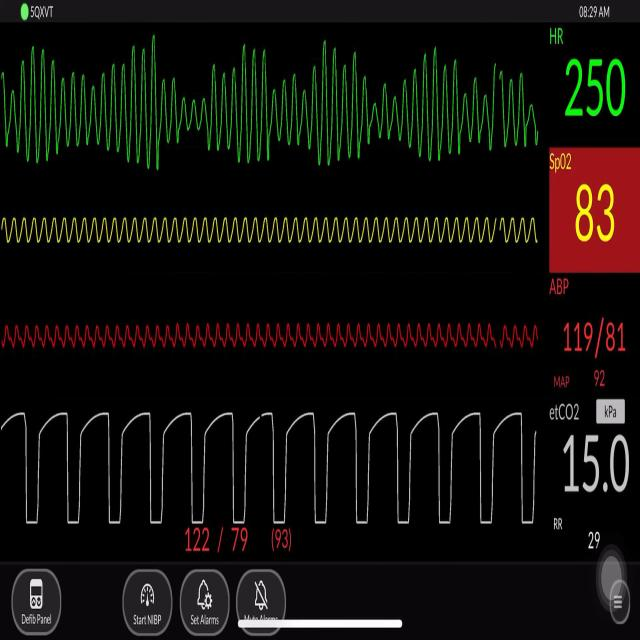danger: (11, 38, 541, 178)
